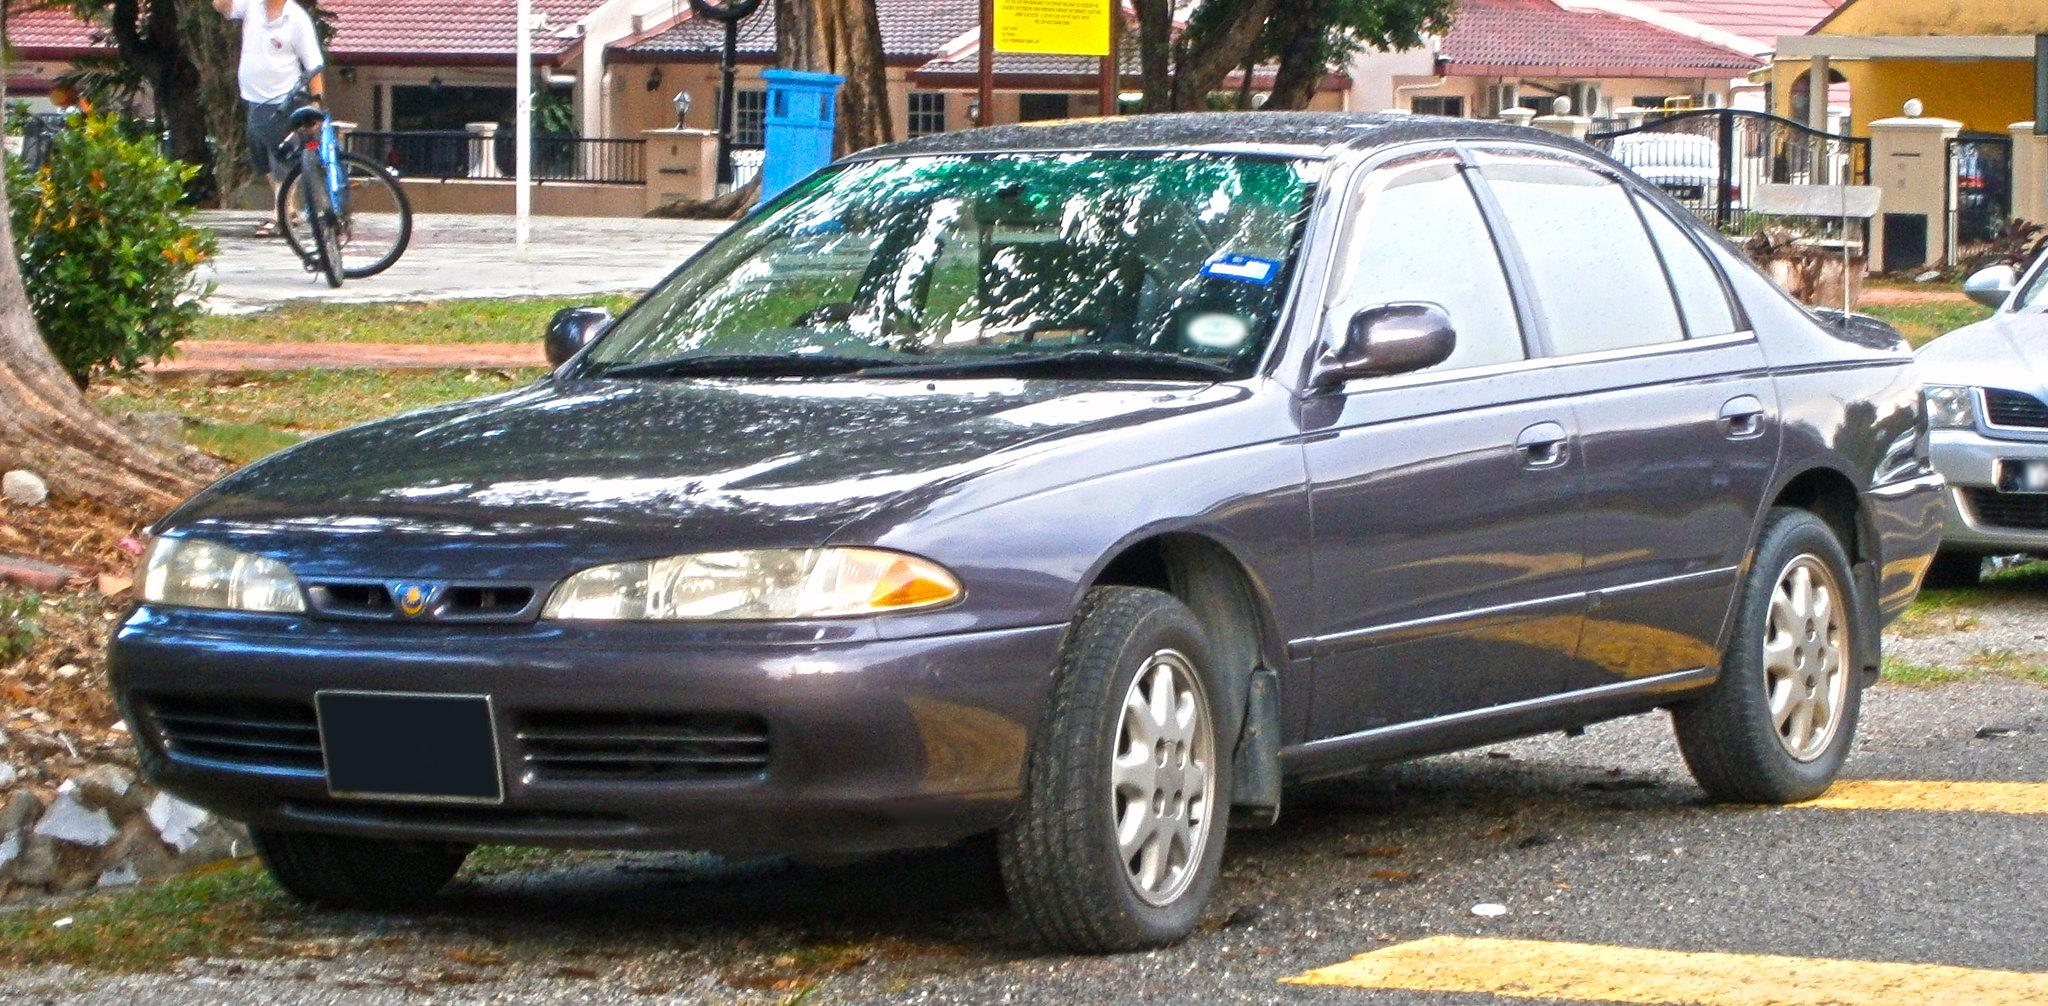bonnet-dent: (398, 378, 1081, 510)
